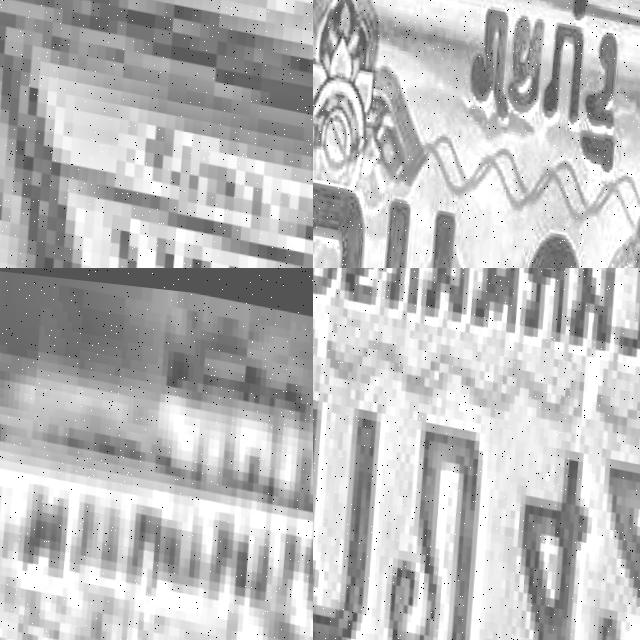license-plate: (313, 268, 640, 640), (0, 292, 313, 640), (313, 0, 640, 268), (0, 0, 313, 268)
